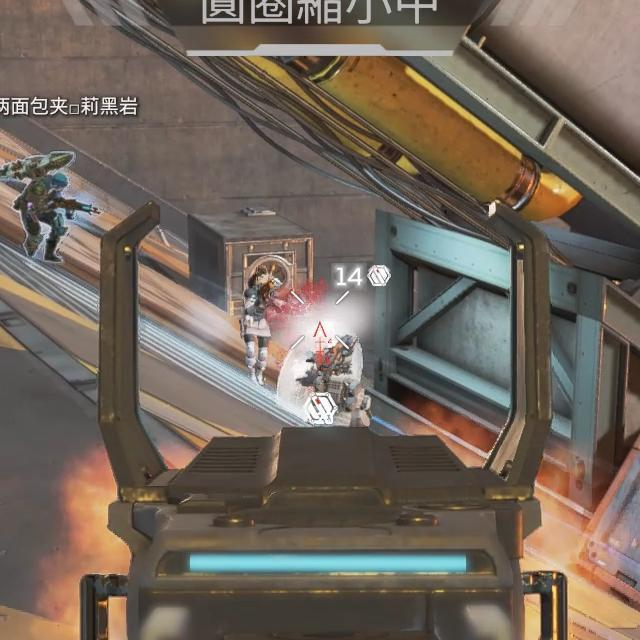avatar: (13, 168, 74, 266), (239, 268, 281, 387)
